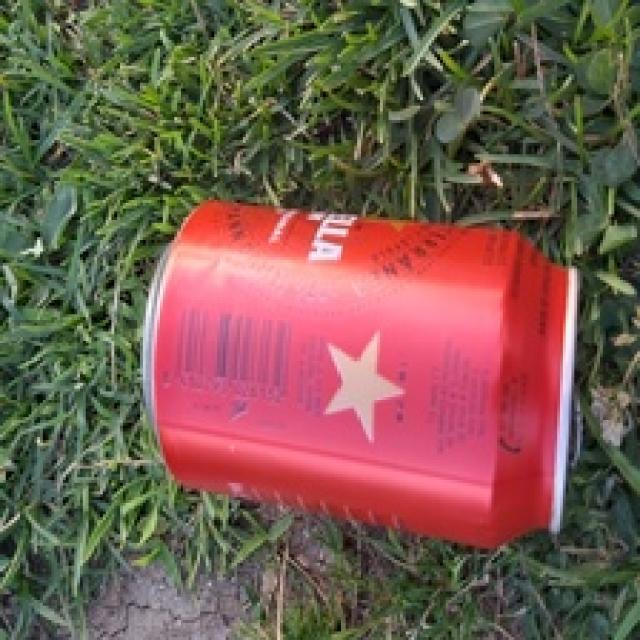recyclable: (142, 199, 582, 547)
